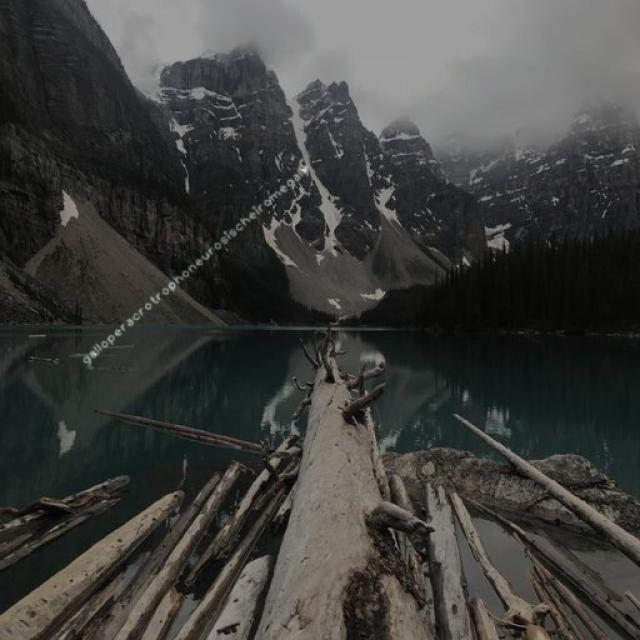watermark: (81, 158, 310, 366)
